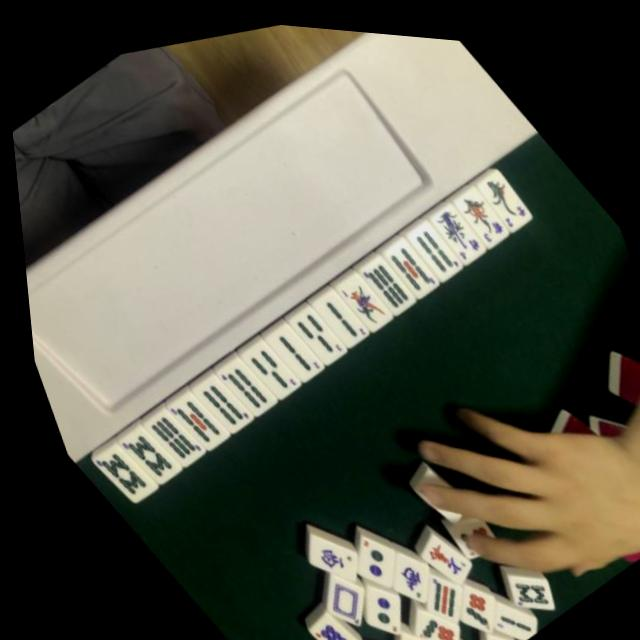bf2: (468, 153, 538, 232)
bf3: (446, 171, 516, 250)
bf4: (422, 189, 491, 268)
sb1: (329, 264, 393, 335)
sb2: (304, 278, 371, 354), (257, 313, 323, 387)
sb3: (280, 297, 346, 370), (235, 334, 300, 406)
sb4: (400, 208, 463, 281), (188, 369, 251, 440), (210, 354, 272, 423)
sb5: (375, 225, 442, 301), (160, 387, 226, 459)
sb6: (137, 404, 203, 478), (351, 244, 417, 317)
sb8: (81, 438, 151, 516), (108, 419, 177, 496)
